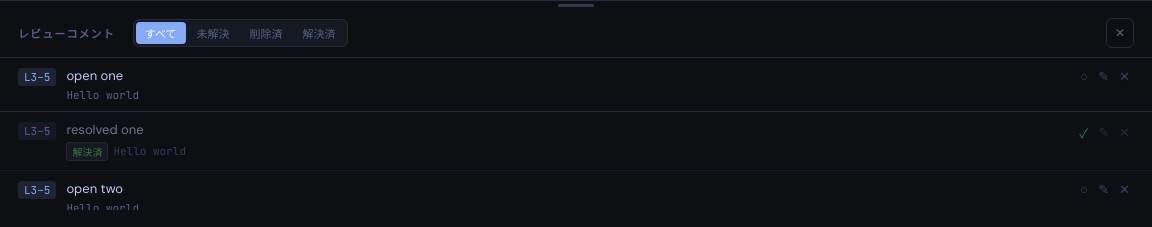
Test case: CommentsPanel › フィルタ（すべて / 未解決 / 削除済 / 解決済） › Resolved を選ぶと解決済みのみ表示される
Click the button with test id "filter-resolved" at {"x": 319, "y": 33}, box [294,22,345,44]
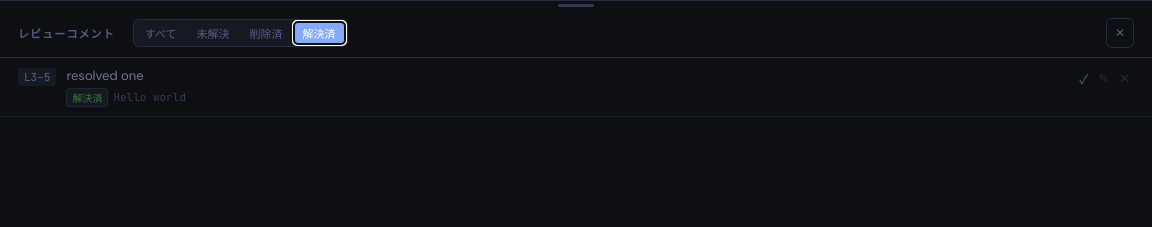
Expected: the text "resolved one" is shown, [66,67,144,84]
Expected: the number of list items with test id "comment-item" is 1, [0,58,1151,117]
